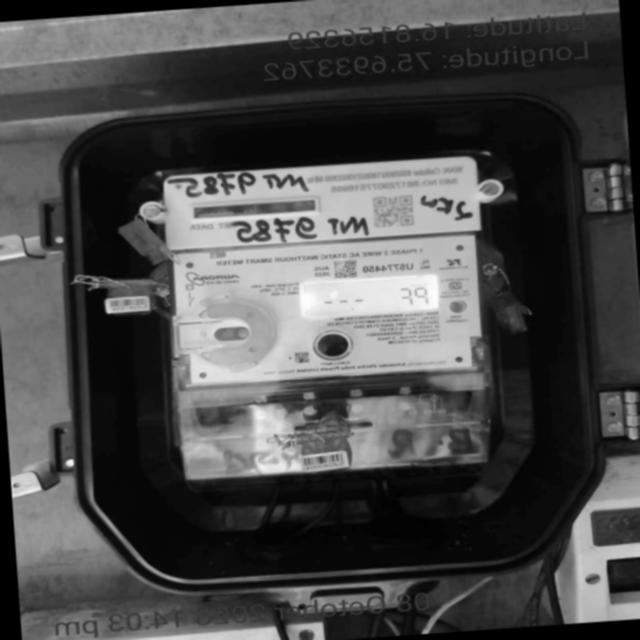meter: (157, 153, 488, 390)
